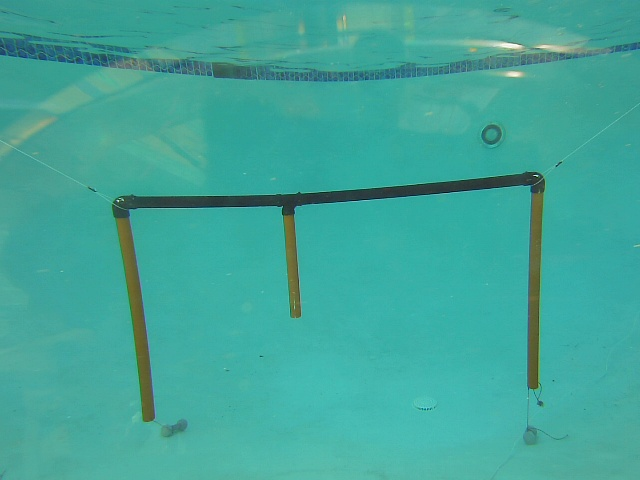Gate: (112, 211, 160, 423), (522, 190, 547, 391), (281, 207, 304, 320)
